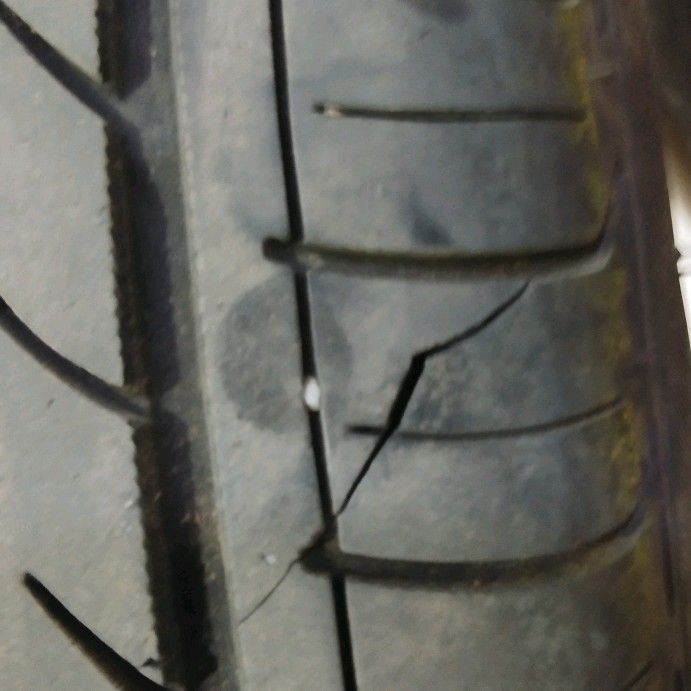tr: (233, 276, 537, 628)
